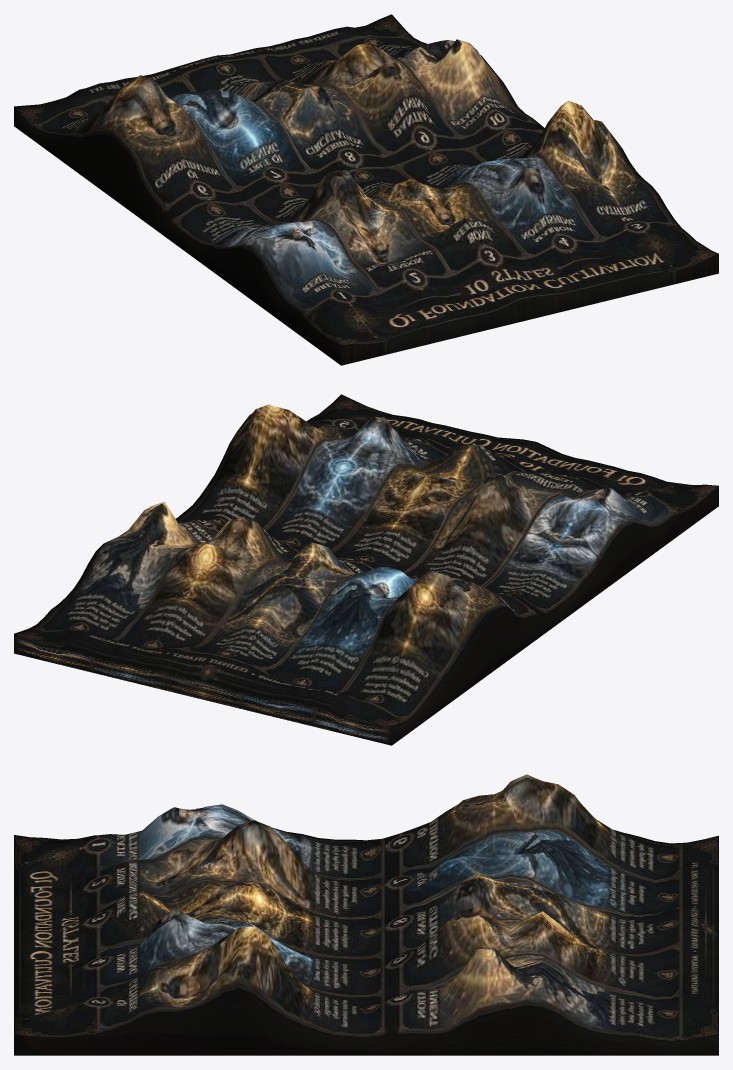
File: Poster_Qi_Foundation_10_EN.glb
The picture shows the model from 3 angles, top to bottom: view 1: azimuth 30°, elevation 25°; view 2: azimuth 150°, elevation 25°; view 3: azimuth 270°, elevation 25°; orthographic projection. The views are drawn at different scales.
Visible parts, largest first — view 1: Poster_Qi_Foundation_10_EN; view 2: Poster_Qi_Foundation_10_EN; view 3: Poster_Qi_Foundation_10_EN.
Boxes of the visible parts, box(x1,y1,x2,y2) form: Poster_Qi_Foundation_10_EN: box(14, 14, 718, 365); Poster_Qi_Foundation_10_EN: box(14, 394, 718, 745); Poster_Qi_Foundation_10_EN: box(14, 774, 718, 1055).
Bounding box in the file's own units: 2 × 0.51 × 3.
Materials: 1 (1 with a texture image).
